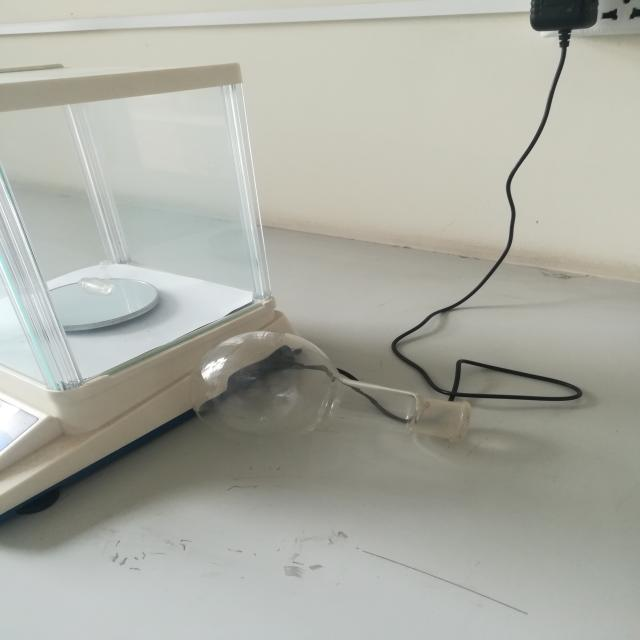Round_Bottom_Flask_Borosilicate_Glass_1_Neck: (145, 299, 521, 470)
